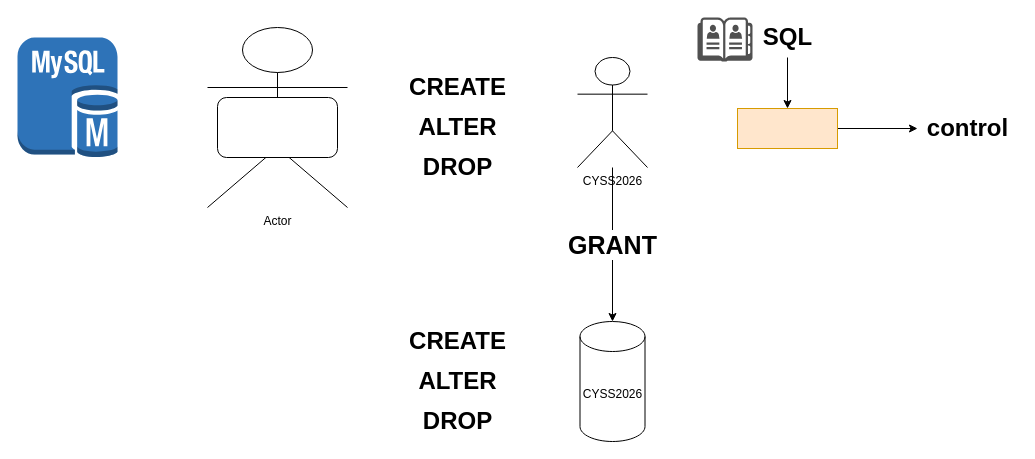
Some shapes in this 1035 by 459 pixel diagram are drawn without their labels. Here are the shapes that lost their labels. From the top down, the box of each, then its label:
(216, 96, 338, 158): root
(736, 108, 838, 148): DCL
